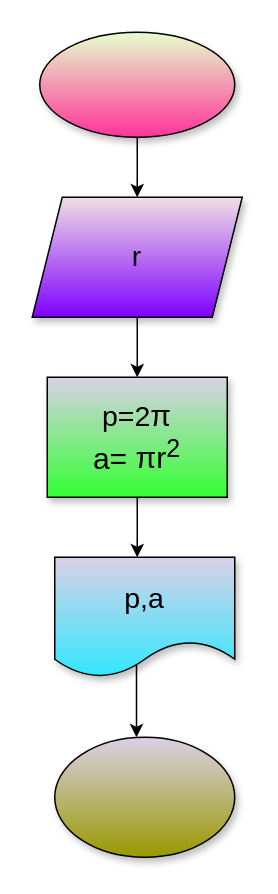
Some shapes in this 278 by 894 pixel diagram are drawn without their labels. The centre of each missing label's shape, as x and y in pixels:
"Fin" goes at point 145,799.
"INICIO" goes at point 138,86.
